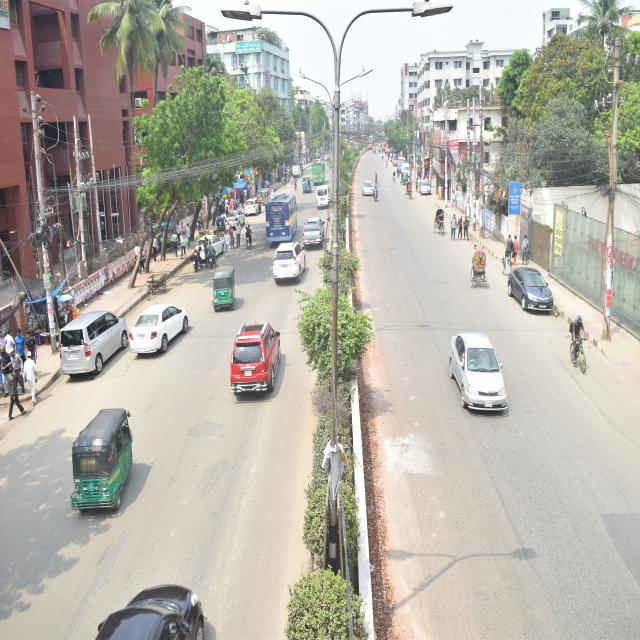bus: (264, 179, 314, 266), (304, 144, 326, 186)
car: (436, 306, 518, 490), (501, 234, 587, 362), (223, 298, 293, 432), (57, 277, 129, 400), (131, 273, 196, 406), (194, 224, 241, 286), (272, 243, 312, 299), (302, 204, 332, 272), (220, 198, 254, 253), (414, 178, 446, 212), (356, 168, 377, 216), (314, 179, 338, 220), (240, 188, 261, 231), (396, 156, 419, 187), (292, 158, 306, 182)
motorbike: (201, 223, 224, 261), (188, 223, 200, 278), (375, 179, 382, 218)
truck: (301, 177, 319, 207)
